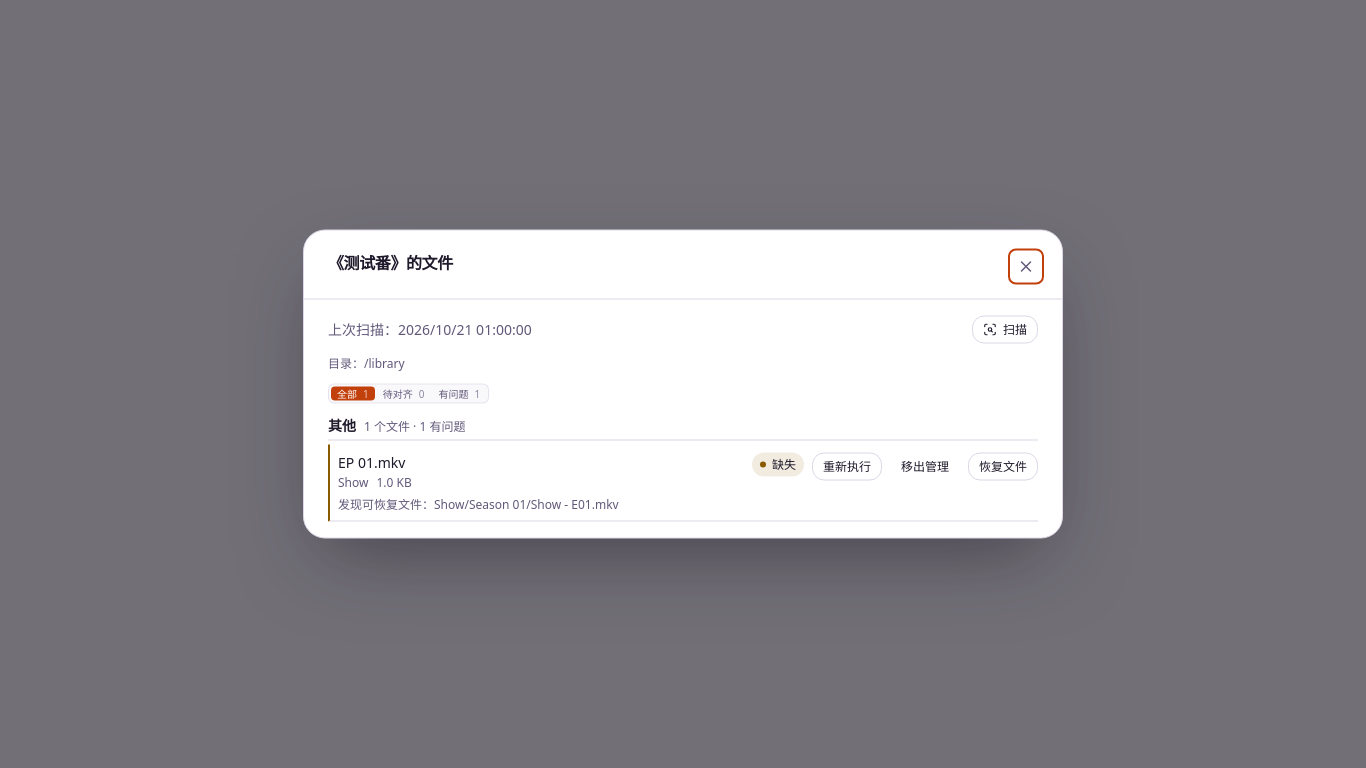
it: AnimeFilesDialog › keeps the recover dialog open with the typed reason on a refusal
The image size is (1366, 768).
Click the button "恢复文件" at point(1003, 466), box [968,452,1038,480]
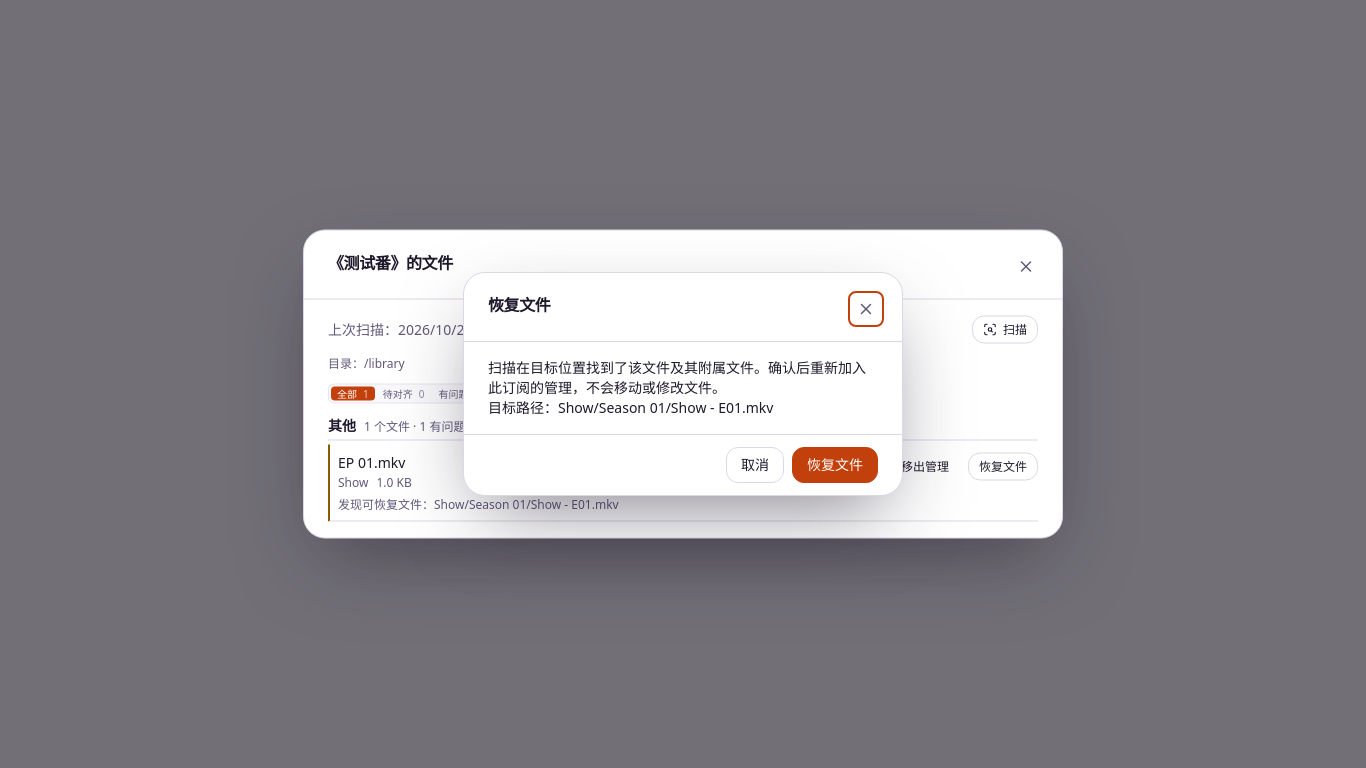
Now the dialog that starts with "恢复文件" is shown, box [463,272,903,496]
Click the button "恢复文件" below "目标路径：Show/Season 01/Show - E01.mkv" at point(835, 465), box [792,447,878,483]
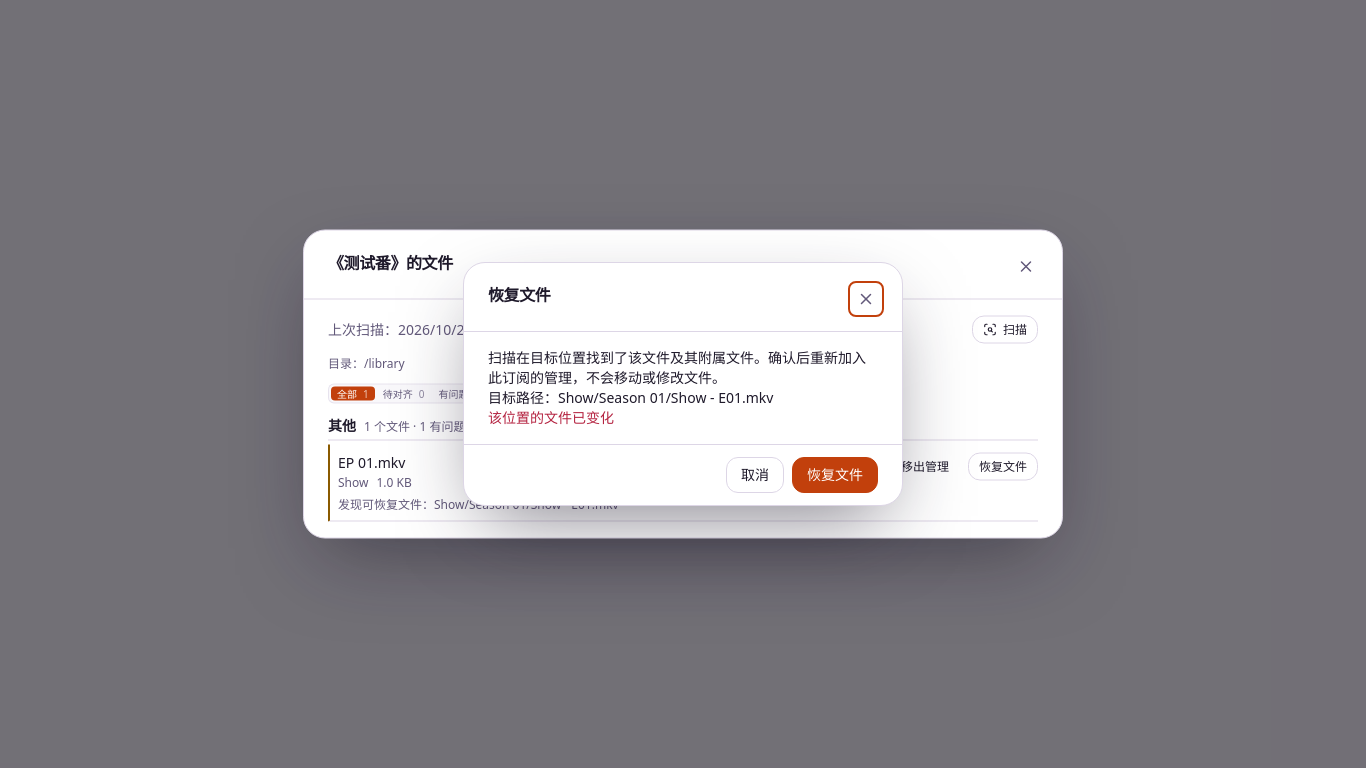
Now the dialog that starts with "恢复文件" shows "该位置的文件已变化", box [488,408,614,427]
